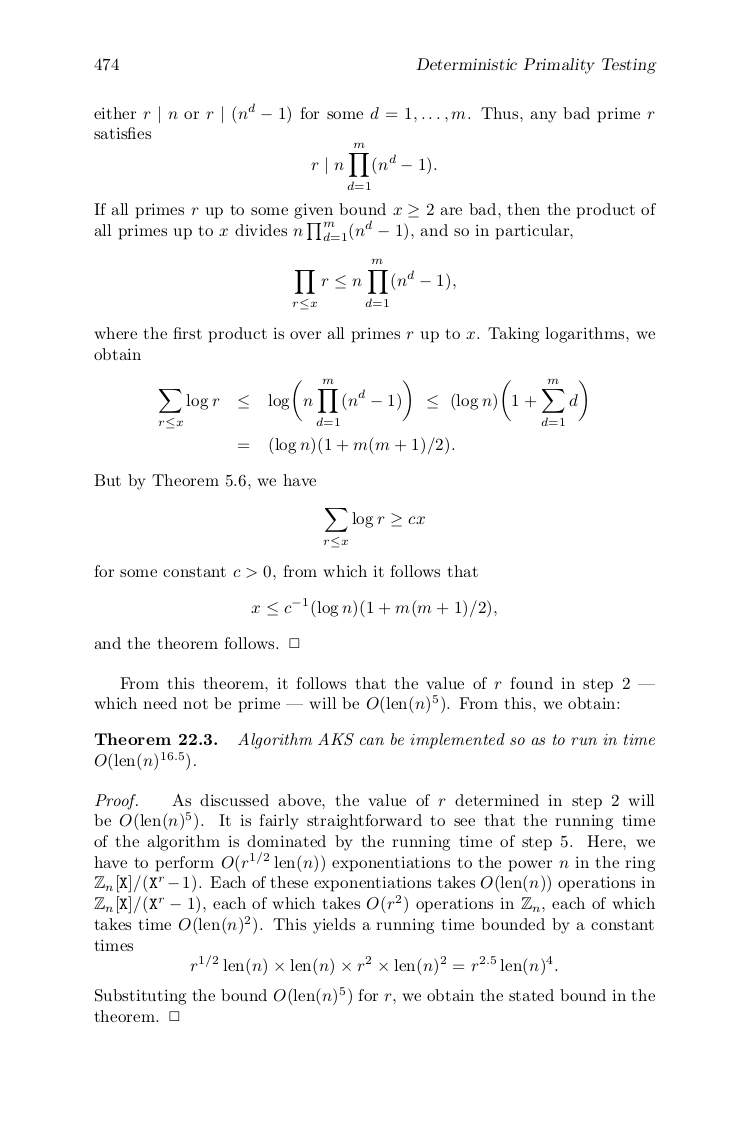formula: (158, 378, 586, 454), (292, 258, 455, 309), (190, 954, 557, 976), (311, 142, 436, 190), (251, 597, 496, 618), (323, 508, 424, 547)
